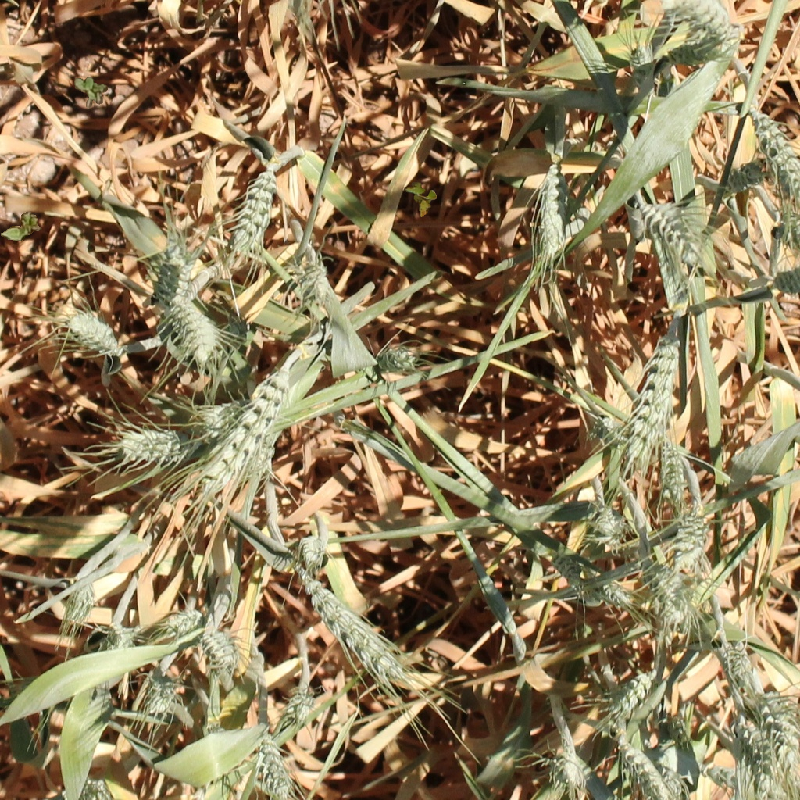spikelet: (302, 576, 406, 680), (202, 380, 287, 493), (627, 334, 683, 462), (749, 109, 799, 207), (612, 728, 681, 799), (639, 199, 704, 266), (230, 166, 278, 256), (757, 688, 799, 788), (659, 1, 743, 46), (167, 295, 220, 363), (537, 161, 572, 257), (647, 561, 694, 627), (116, 425, 189, 466), (150, 241, 190, 315), (254, 731, 297, 799), (65, 310, 123, 358), (607, 668, 656, 719), (669, 509, 710, 569), (546, 746, 593, 789), (200, 623, 241, 670), (658, 437, 687, 502), (60, 577, 98, 626), (159, 605, 205, 645), (587, 503, 626, 547), (200, 398, 245, 436), (144, 669, 180, 711), (374, 343, 417, 377), (300, 529, 333, 566), (284, 688, 317, 725), (71, 778, 112, 800)
weed: (1, 212, 42, 241), (404, 182, 437, 217), (74, 77, 108, 109)
